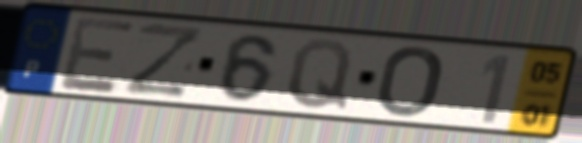1: (479, 52, 514, 126)
6: (218, 32, 284, 105)
E: (57, 14, 141, 97)
O: (373, 43, 447, 119)
Q: (283, 36, 356, 113)
Z: (120, 19, 207, 99)
